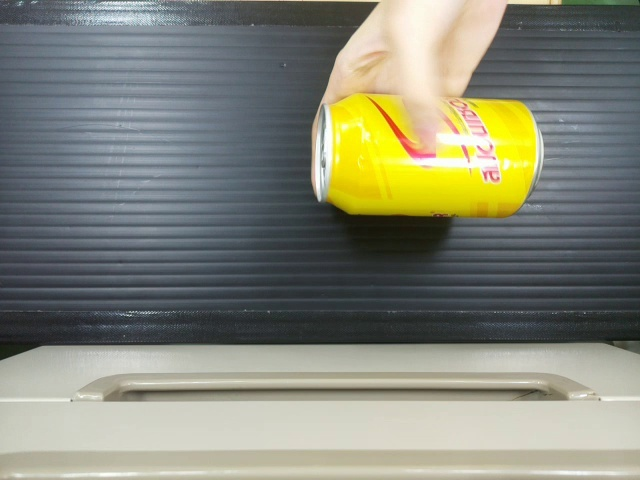can: (311, 84, 543, 213)
